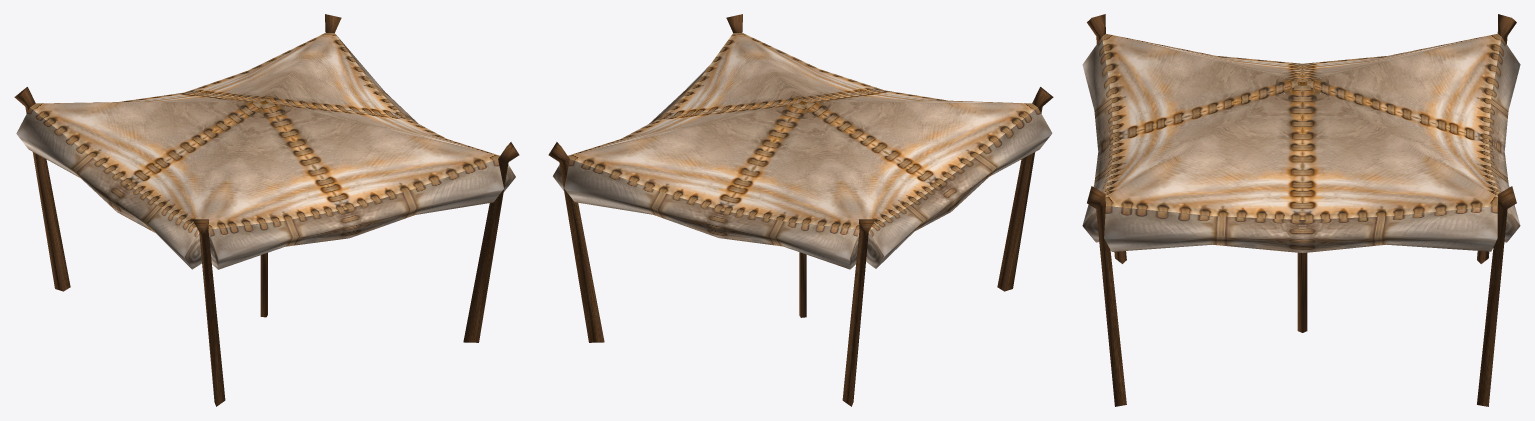
Rendered from excavationtentpavillion.obj.
The picture shows the model from 3 angles, left to right: view 1: azimuth 30°, elevation 25°; view 2: azimuth 150°, elevation 25°; view 3: azimuth 270°, elevation 25°; orthographic projection. The views are drawn at different scales.
Parts seen in each view (by area): view 1: Geoset0, Geoset2, Geoset1; view 2: Geoset0, Geoset2, Geoset1; view 3: Geoset0, Geoset2, Geoset1.
Part boxes in pixels (x1,y1,x2,y2): Geoset0: [30, 33, 499, 230]; Geoset2: [16, 35, 515, 269]; Geoset1: [14, 14, 519, 406]; Geoset0: [568, 32, 1037, 230]; Geoset2: [553, 65, 1052, 269]; Geoset1: [548, 14, 1053, 406]; Geoset0: [1102, 33, 1501, 219]; Geoset2: [1082, 37, 1520, 253]; Geoset1: [1087, 14, 1516, 406].
Bounding box in the file's own units: 8.75 × 5.43 × 8.66.
Materials: 3 (3 with a texture image).
